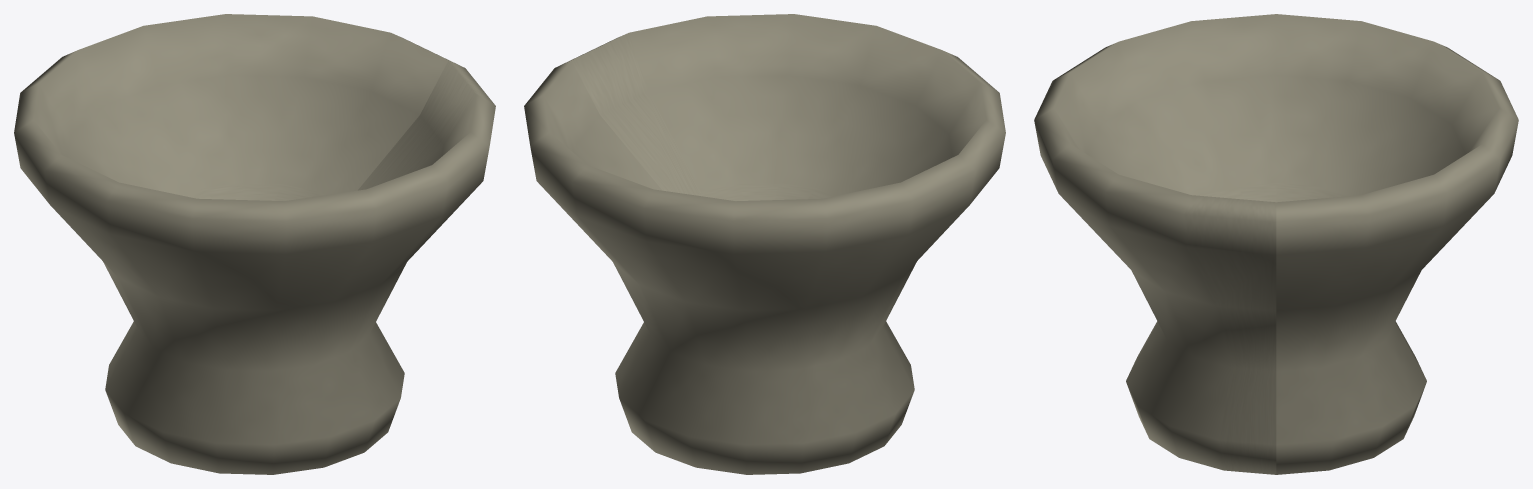
File: s11-becken.glb
3 views of the same model, side by side, from view 1: azimuth 30°, elevation 25°; view 2: azimuth 150°, elevation 25°; view 3: azimuth 270°, elevation 25° (orthographic).
Parts seen in each view (by area): view 1: s11-becken; view 2: s11-becken; view 3: s11-becken.
Boxes of the visible parts, bbox=[...] form: s11-becken: bbox=[14, 14, 495, 474]; s11-becken: bbox=[524, 14, 1005, 474]; s11-becken: bbox=[1034, 14, 1518, 474].
Bounding box in the file's own units: 0.74 × 0.52 × 0.74.
Materials: 1 (1 with a texture image).
